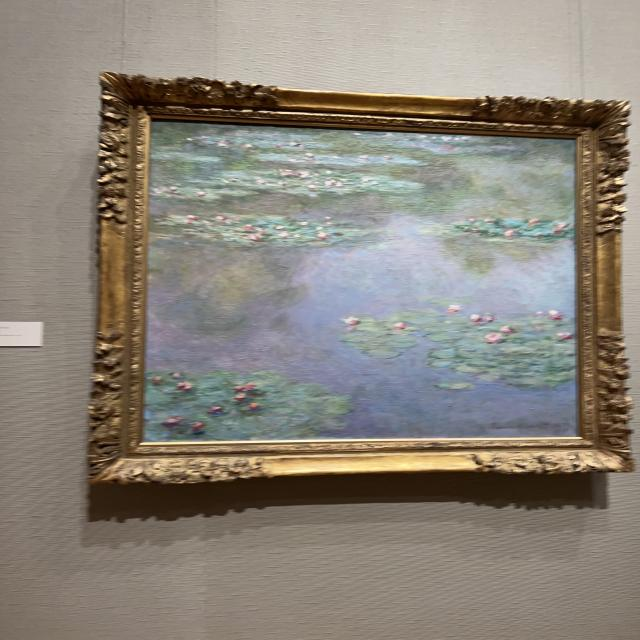lilies: (149, 124, 574, 438)
